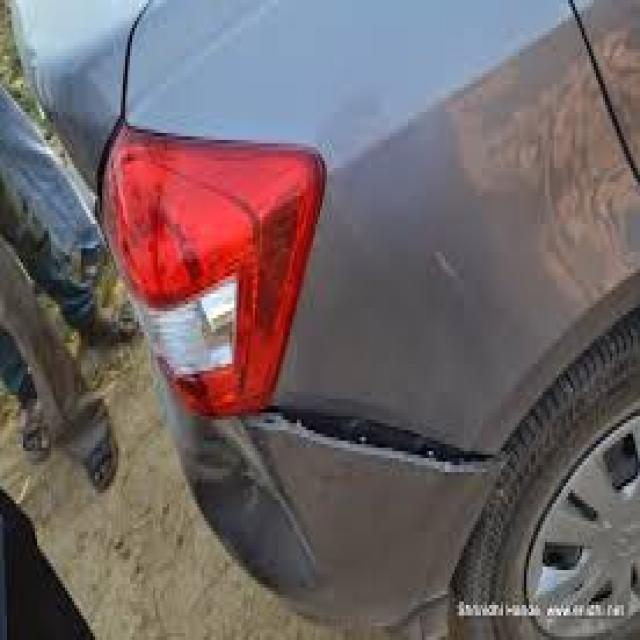minor: (184, 359, 640, 542)
